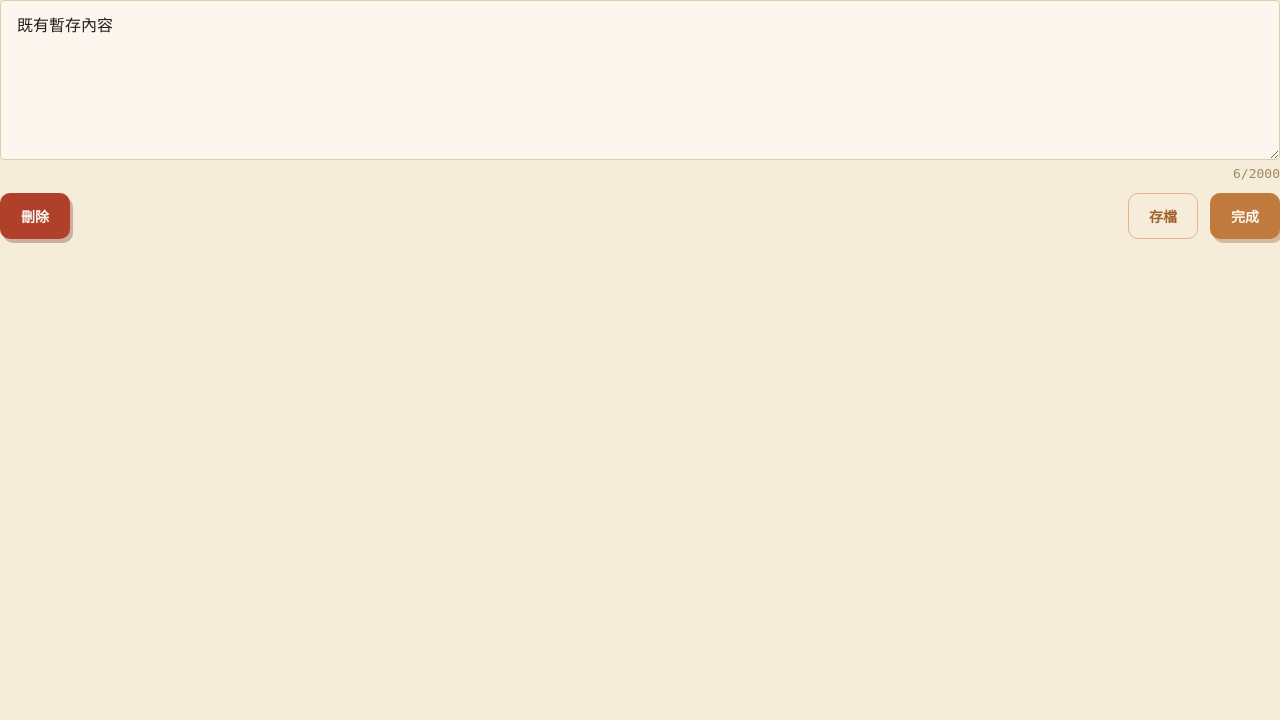
TodayEntryEditor › keeps the record when the delete confirmation is cancelled
Click the button "刪除" at (35, 216), box [0, 193, 70, 239]
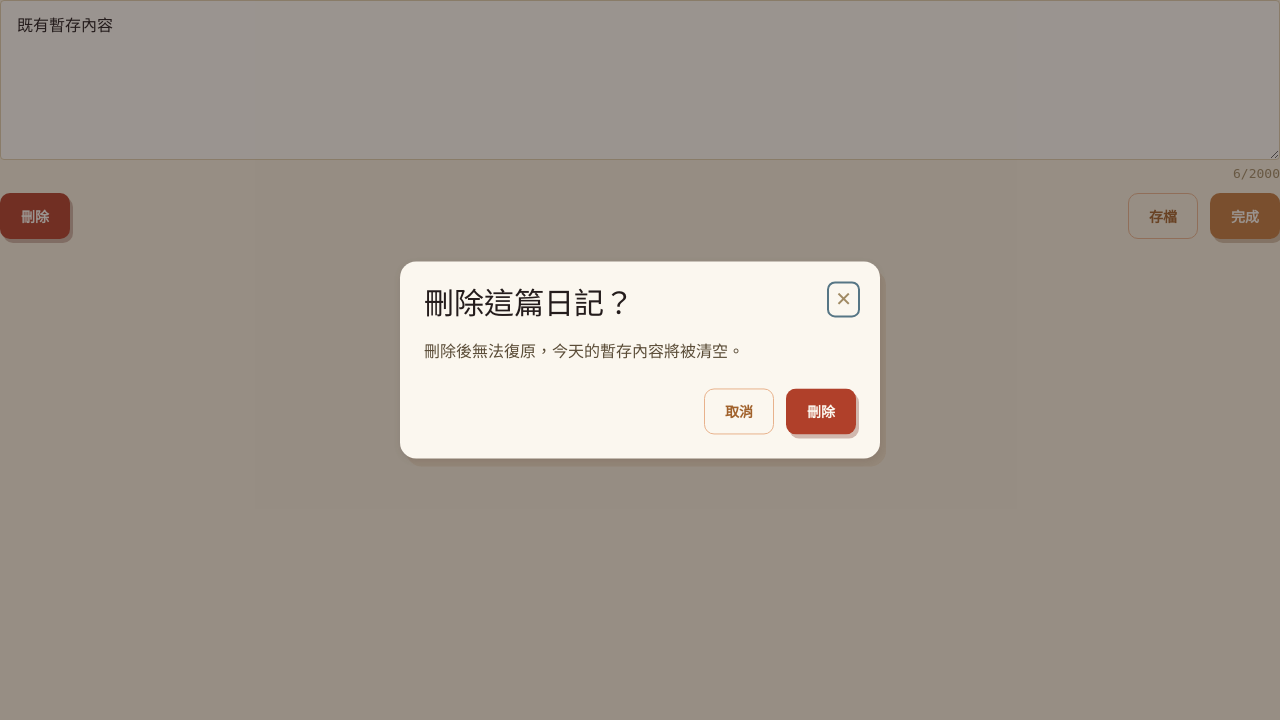
Expected: the dialog "刪除這篇日記？" is shown, [400, 262, 880, 459]
Click the button "取消" at (739, 412), box [704, 388, 774, 434]
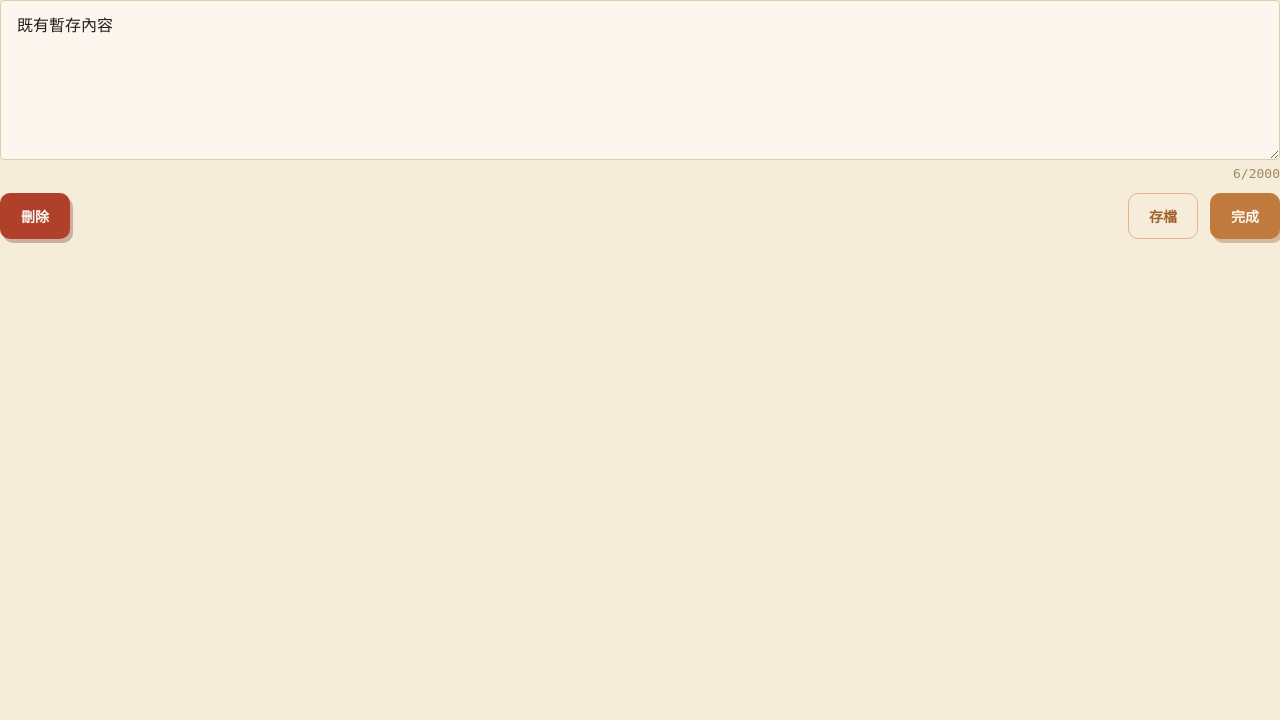
Expected: the text box named "今日夢境日記內容" holds "既有暫存內容", [0, 0, 1279, 160]
Expected: the dialog is gone
